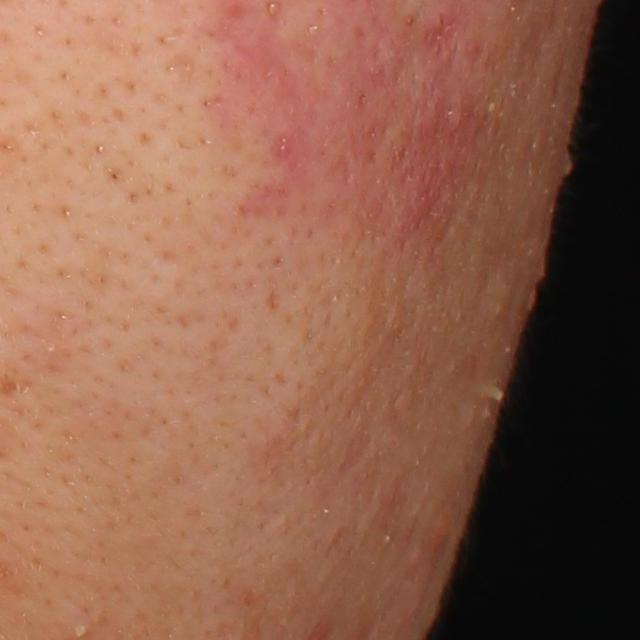atrophic_scar: (159, 48, 197, 97)
